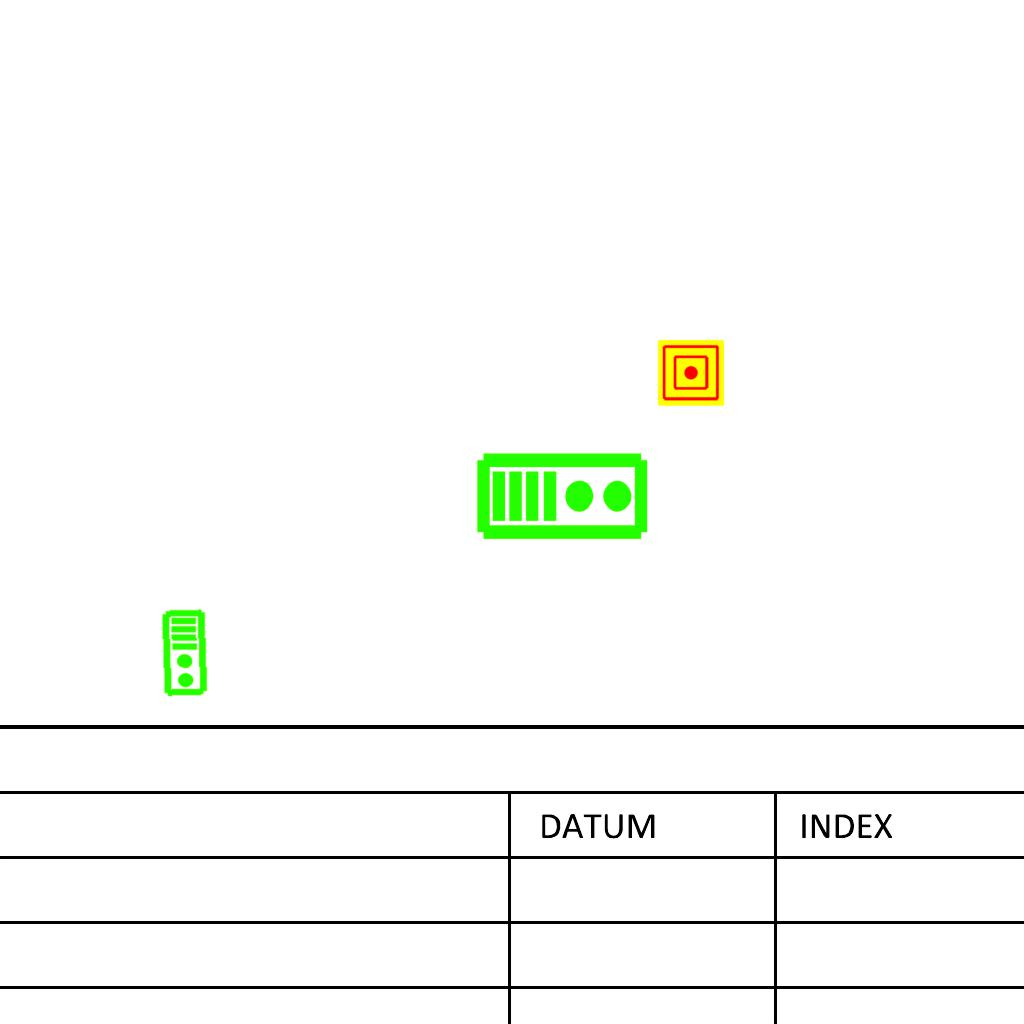Gegensprechanlage_mit_Video: (475, 447, 651, 542), (160, 608, 211, 698)
NAM-Nichtautomatischer_Melder: (658, 340, 724, 406)
